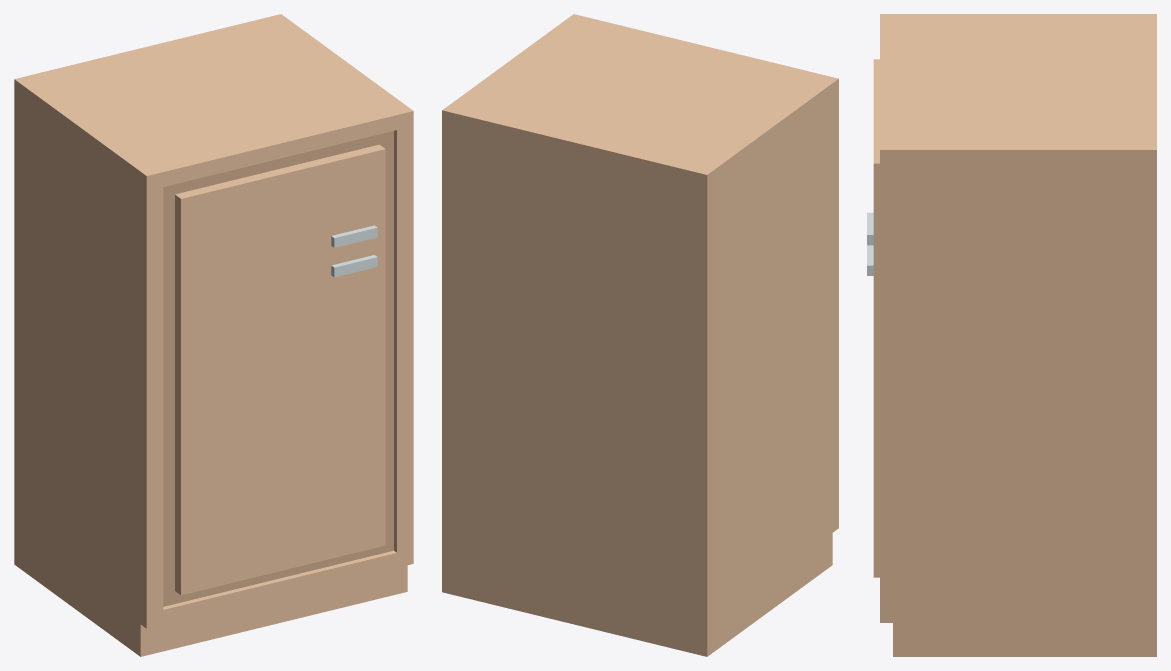
Rendered from kitchenFridgeBuiltIn-col.glb.
3 views of the same model, side by side, from view 1: azimuth 30°, elevation 25°; view 2: azimuth 150°, elevation 25°; view 3: azimuth 270°, elevation 25° (orthographic). The views are drawn at different scales.
Parts seen in each view (by area): view 1: kitchenFridgeBuiltIn-col; view 2: kitchenFridgeBuiltIn-col; view 3: kitchenFridgeBuiltIn-col.
Part boxes in pixels (box(x1,y1,x2,y2)): kitchenFridgeBuiltIn-col: box(14, 14, 413, 656); kitchenFridgeBuiltIn-col: box(442, 14, 838, 656); kitchenFridgeBuiltIn-col: box(867, 14, 1156, 656).
Bounding box in the file's own units: 0.5 × 0.8687 × 0.45.
